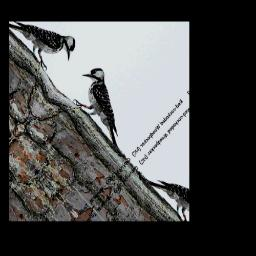Woodpecker: (64, 60, 151, 156)
